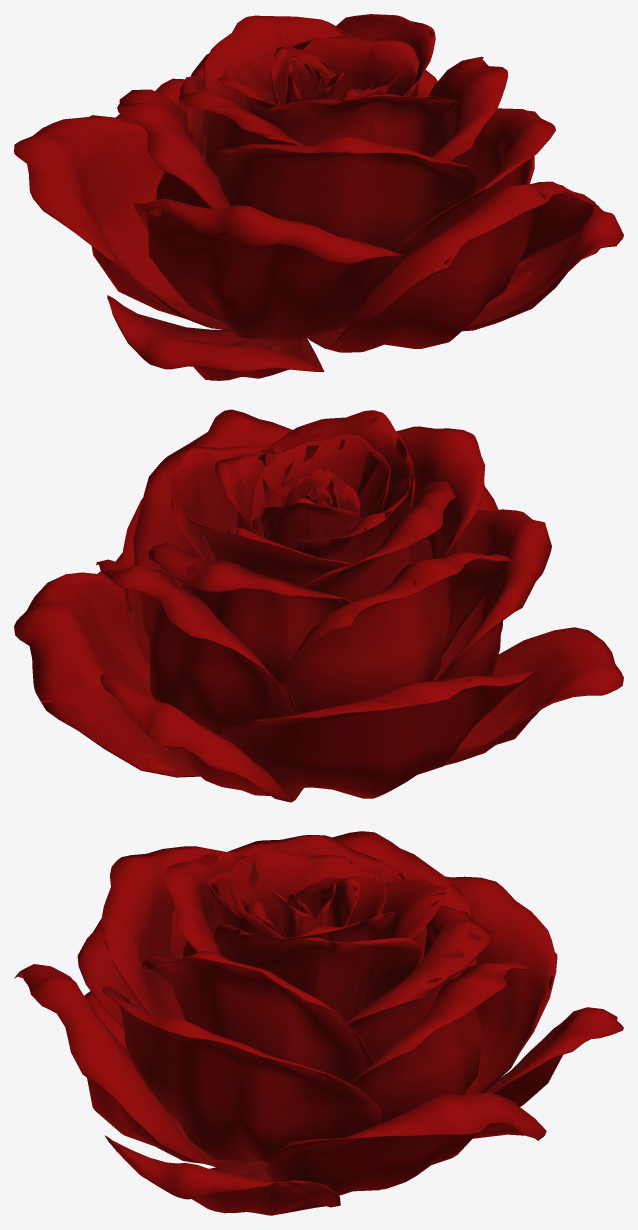
Rendered from rose.glb.
The picture shows the model from 3 angles, top to bottom: view 1: azimuth 30°, elevation 25°; view 2: azimuth 150°, elevation 25°; view 3: azimuth 270°, elevation 25°; orthographic projection. The views are drawn at different scales.
Bounding box in the file's own units: 0.4258 × 0.2345 × 0.4515.
Materials: 1 (1 with a texture image).
